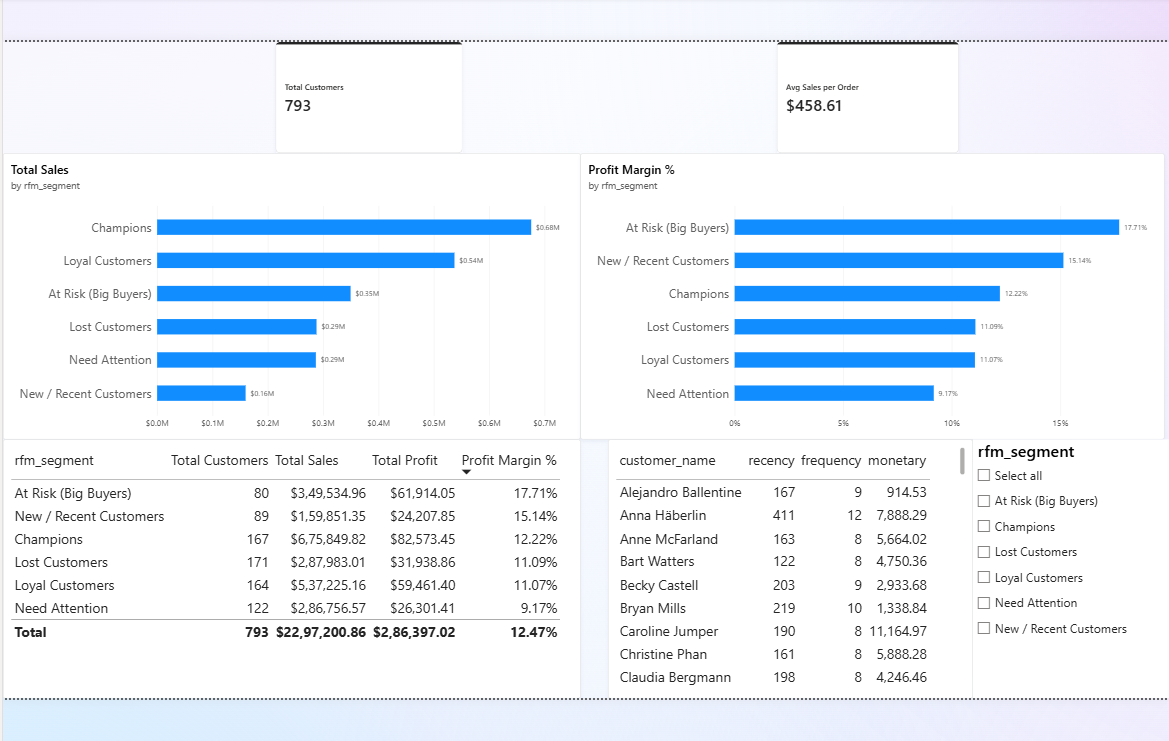

What the dashboard file says about the page in this screenshot:
{"tool":"powerbi","page":{"name":"Customers (RFM)","canvas":[1920,1080],"ordinal":2},"visuals":[{"type":"cardVisual","fields":{"Data":["superstore_clean.Total Customers"]},"box":[448.7,0,308.7,183.2],"z":0},{"type":"cardVisual","fields":{"Data":["superstore_clean.Avg Sales per Order"]},"box":[1274.1,0,300.5,183.2],"z":1000},{"type":"barChart","fields":{"Category":["rfm_segments.rfm_segment"],"Y":["superstore_clean.Total Sales"]},"box":[0,183.2,950.9,471.4],"z":2000},{"type":"barChart","fields":{"Category":["rfm_segments.rfm_segment"],"Y":["superstore_clean.Profit Margin %"]},"box":[950.9,183.2,961.2,471.4],"z":3000},{"type":"tableEx","fields":{"Values":["rfm_segments.rfm_segment","superstore_clean.Total Customers","superstore_clean.Total Sales","superstore_clean.Total Profit","superstore_clean.Profit Margin %"]},"box":[0,654.5,950.9,426.1],"z":4000},{"type":"tableEx","fields":{"Values":["rfm_segments.customer_name","rfm_segments.recency","rfm_segments.frequency","rfm_segments.monetary"]},"box":[996.2,654.5,601,426.1],"z":5000},{"type":"slicer","fields":{"Values":["rfm_segments.rfm_segment"]},"box":[1597.3,654.5,323.2,426.1],"z":6000}]}

Visuals, with their boxes on the page's 1920x1080 design canvas (x1, y1, x2, y2). These are canvas units, not pixel positions in the 1169x741 screenshot, which may show the page scaled, cropped or inside an application window:
cardVisual - superstore_clean.Total Customers: rect(449, 0, 757, 183)
cardVisual - superstore_clean.Avg Sales per Order: rect(1274, 0, 1575, 183)
barChart - rfm_segments.rfm_segment x superstore_clean.Total Sales: rect(0, 183, 951, 655)
barChart - rfm_segments.rfm_segment x superstore_clean.Profit Margin %: rect(951, 183, 1912, 655)
tableEx - rfm_segments.rfm_segment x superstore_clean.Total Customers: rect(0, 654, 951, 1081)
tableEx - rfm_segments.customer_name x rfm_segments.recency: rect(996, 654, 1597, 1081)
slicer - rfm_segments.rfm_segment: rect(1597, 654, 1920, 1081)
